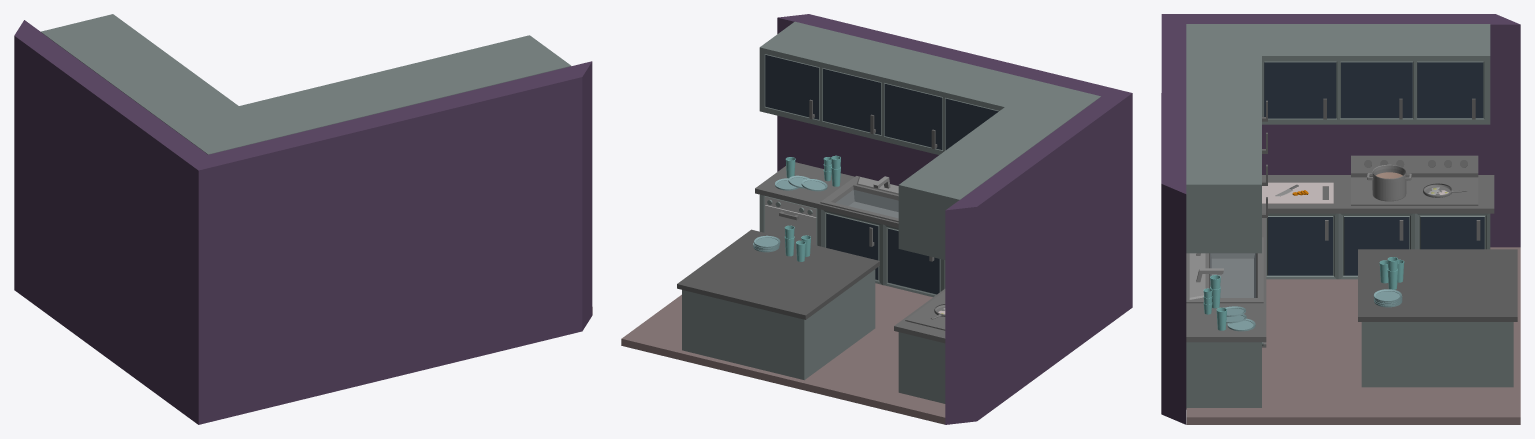
The model's file is isoKitchen.fbx.
The picture shows the model from 3 angles, left to right: view 1: azimuth 30°, elevation 25°; view 2: azimuth 150°, elevation 25°; view 3: azimuth 270°, elevation 25°; orthographic projection. The views are drawn at different scales.
Visible parts, largest first — view 1: Plane.001, Cube.002; view 2: Plane.001, Cube.002, Cube.003, Plane, Cube.010, Cube.004, Cube, Cube.011, Cube.001, Cube.005, Cube.027, Cube.007 (+1 smaller); view 3: Plane.001, Cube.002, Plane, Cube.010, Cube.004, Cube.003, Cube.011, Cube, Cube.001, Cube.026, Cube.005, Cube.007 (+4 smaller).
Part boxes in pixels (x1=…): Plane.001: x1=14, y1=20, x2=592, y2=424; Cube.002: x1=41, y1=14, x2=570, y2=154; Plane.001: x1=777, y1=14, x2=1132, y2=424; Cube.002: x1=759, y1=21, x2=1100, y2=259; Cube.003: x1=682, y1=269, x2=875, y2=380; Plane: x1=621, y1=283, x2=945, y2=424; Cube.010: x1=765, y1=55, x2=998, y2=149; Cube.004: x1=677, y1=229, x2=879, y2=319; Cube: x1=759, y1=194, x2=945, y2=403; Cube.011: x1=826, y1=213, x2=939, y2=294; Cube.001: x1=755, y1=162, x2=945, y2=343; Cube.005: x1=820, y1=176, x2=898, y2=222; Cube.027: x1=765, y1=196, x2=816, y2=245; Cube.007: x1=836, y1=190, x2=897, y2=217; Plane.001: x1=1161, y1=14, x2=1520, y2=424; Cube.002: x1=1186, y1=24, x2=1490, y2=253; Plane: x1=1186, y1=247, x2=1520, y2=424; Cube.010: x1=1264, y1=62, x2=1483, y2=118; Cube.004: x1=1358, y1=249, x2=1517, y2=321; Cube.003: x1=1361, y1=322, x2=1513, y2=387; Cube.011: x1=1268, y1=217, x2=1484, y2=275; Cube: x1=1186, y1=213, x2=1490, y2=409; Cube.001: x1=1186, y1=175, x2=1494, y2=342; Cube.026: x1=1351, y1=155, x2=1478, y2=205; Cube.005: x1=1186, y1=237, x2=1263, y2=303; Cube.007: x1=1210, y1=254, x2=1255, y2=297.
Size of the model in its own units: 562 by 335 by 472.
